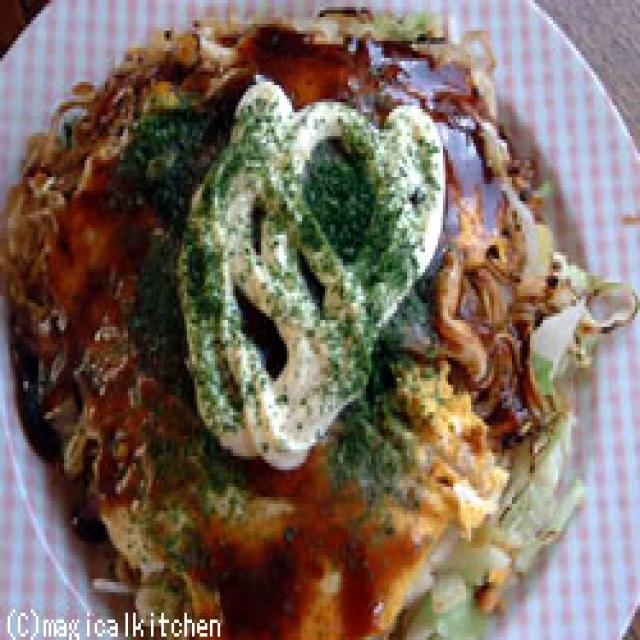蛋糕甜品: (0, 0, 640, 592)
